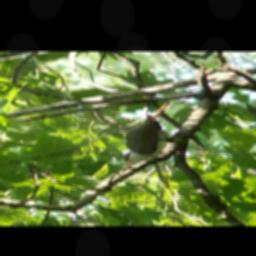Cuckoo: (79, 99, 219, 168)
